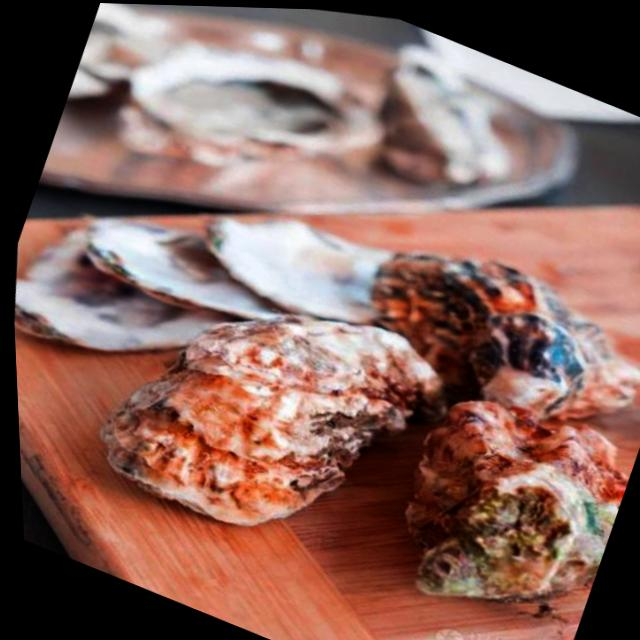Oyster-Indeterminate: (98, 316, 446, 522), (402, 398, 629, 600), (370, 249, 640, 417)
Oyster-Open: (94, 3, 413, 248), (323, 12, 559, 240), (15, 226, 263, 351), (88, 216, 305, 315), (207, 217, 391, 320)
